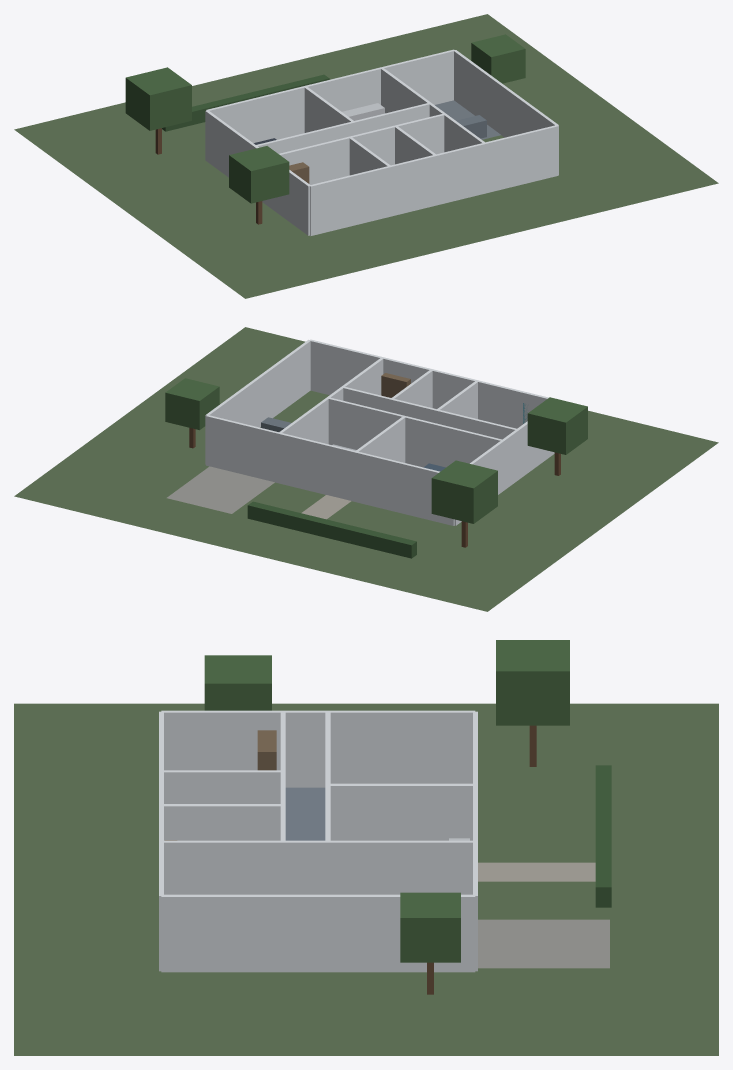
The model's file is demo-house.glb.
The picture shows the model from 3 angles, top to bottom: view 1: azimuth 30°, elevation 25°; view 2: azimuth 150°, elevation 25°; view 3: azimuth 270°, elevation 25°; orthographic projection. The views are drawn at different scales.
Parts seen in each view (by area): view 1: ground, object 12, object 11, object 18, object 14, tree_-1_6_-1_8, object 13, tree_-1_4_7_4, object 17, object 16, tree_15_2_1_4, hedge_front (+4 smaller); view 2: ground, object 11, object 12, object 17, object 14, tree_-1_6_-1_8, hedge_front, tree_-1_4_7_4, area__driveway, object 18, object 13, tree_15_2_1_4 (+6 smaller); view 3: ground, object 14, object 13, object 16, object 15, tree_-1_6_-1_8, area__driveway, tree_15_2_1_4, object 20, object 19, tree_-1_4_7_4, hedge_front (+7 smaller).
Part boxes in pixels (x1=…): ground: x1=14, y1=14, x2=718, y2=298; object 12: x1=309, y1=125, x2=558, y2=235; object 11: x1=206, y1=49, x2=454, y2=142; object 18: x1=279, y1=113, x2=445, y2=184; object 14: x1=454, y1=50, x2=558, y2=174; tree_-1_6_-1_8: x1=125, y1=67, x2=191, y2=154; object 13: x1=205, y1=110, x2=310, y2=235; tree_-1_4_7_4: x1=229, y1=146, x2=289, y2=224; object 17: x1=255, y1=103, x2=430, y2=153; object 16: x1=381, y1=68, x2=485, y2=152; tree_15_2_1_4: x1=471, y1=34, x2=525, y2=83; hedge_front: x1=162, y1=74, x2=329, y2=131; ground: x1=14, y1=327, x2=718, y2=611; object 11: x1=206, y1=415, x2=454, y2=525; object 12: x1=309, y1=339, x2=548, y2=428; object 17: x1=327, y1=397, x2=501, y2=467; object 14: x1=205, y1=339, x2=310, y2=464; tree_-1_6_-1_8: x1=431, y1=460, x2=497, y2=547; hedge_front: x1=247, y1=501, x2=416, y2=558; tree_-1_4_7_4: x1=527, y1=397, x2=587, y2=475; area__driveway: x1=167, y1=466, x2=274, y2=513; object 18: x1=342, y1=387, x2=517, y2=439; object 13: x1=454, y1=421, x2=554, y2=525; tree_15_2_1_4: x1=165, y1=378, x2=219, y2=448; ground: x1=14, y1=703, x2=718, y2=1055; object 14: x1=161, y1=894, x2=475, y2=972; object 13: x1=161, y1=710, x2=475, y2=787; object 16: x1=161, y1=840, x2=475, y2=894; object 15: x1=328, y1=783, x2=475, y2=840; tree_-1_6_-1_8: x1=496, y1=640, x2=569, y2=766; area__driveway: x1=478, y1=919, x2=609, y2=968; tree_15_2_1_4: x1=400, y1=892, x2=460, y2=994; object 20: x1=161, y1=804, x2=283, y2=840; object 19: x1=161, y1=770, x2=282, y2=803; tree_-1_4_7_4: x1=204, y1=655, x2=271, y2=710; hedge_front: x1=595, y1=765, x2=611, y2=907.
Bounding box in the file's own units: 26 × 3.8 × 22.
